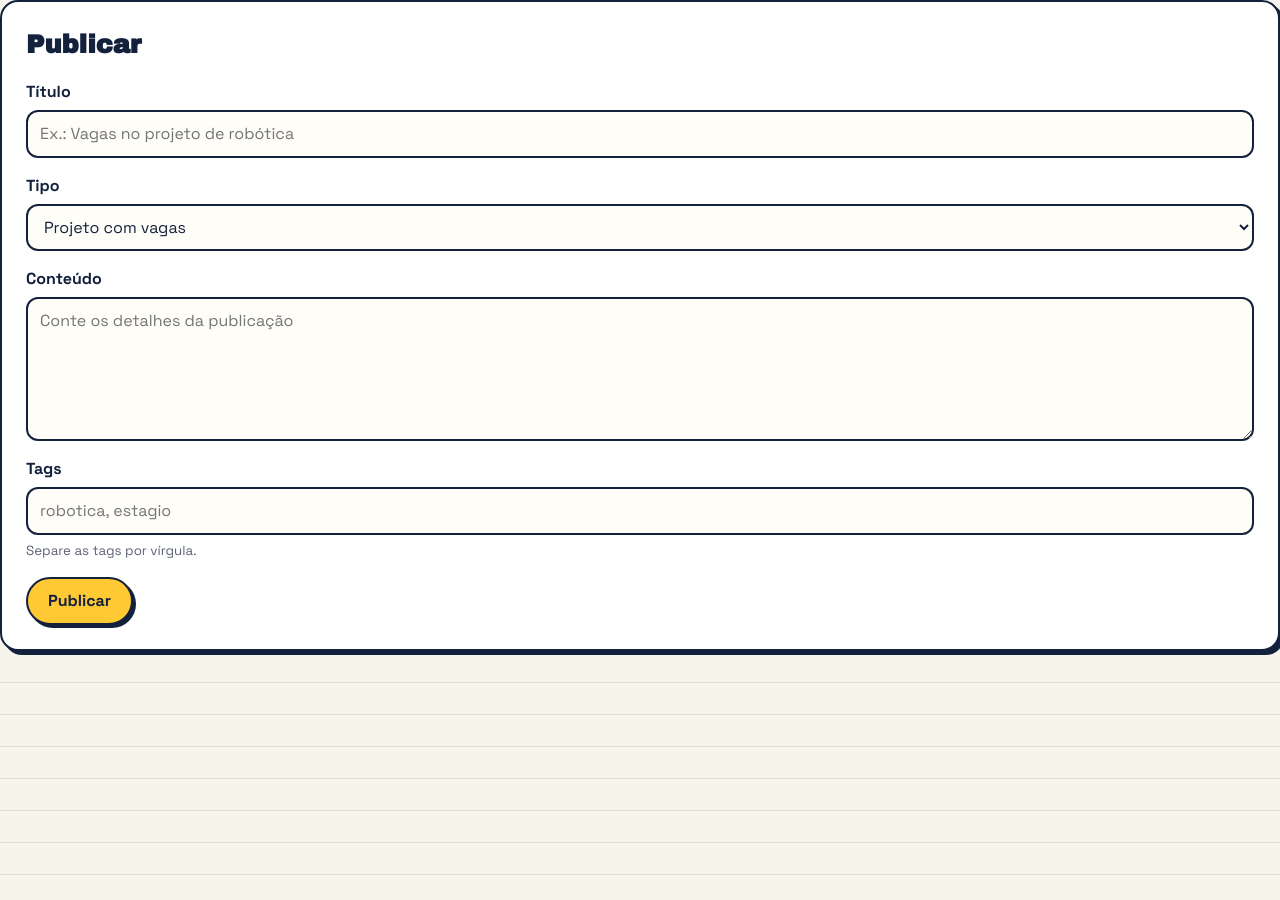
Test: PostForm › mostra mensagens de validação quando enviado vazio e não chama onSalvar
The image size is (1280, 900).
Click the button "Publicar" at (80, 601), box [26, 577, 133, 625]
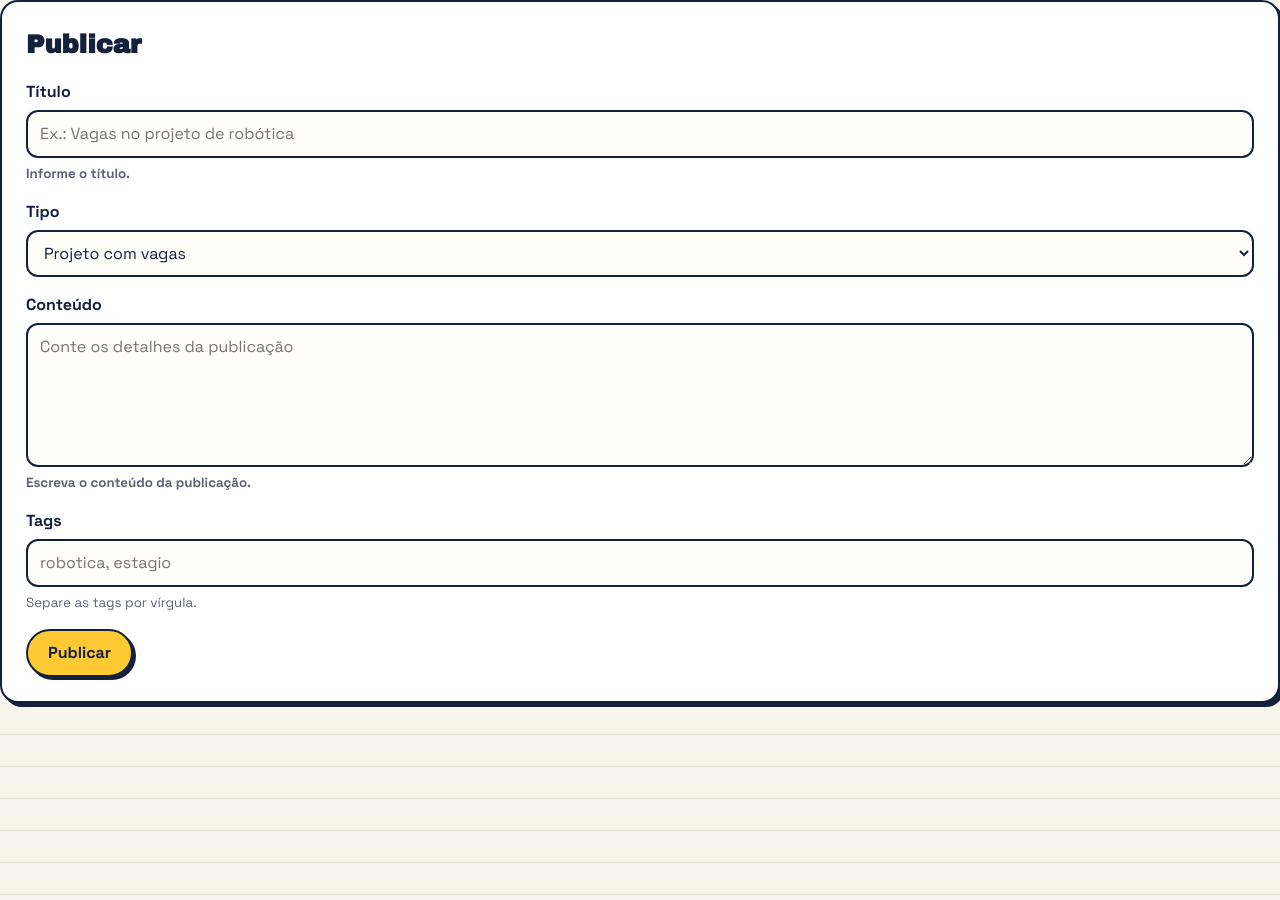
Now the text "Informe o título." is shown, box [26, 165, 130, 182]
Now the text "Escreva o conteúdo da publicação." is shown, box [26, 474, 251, 491]
